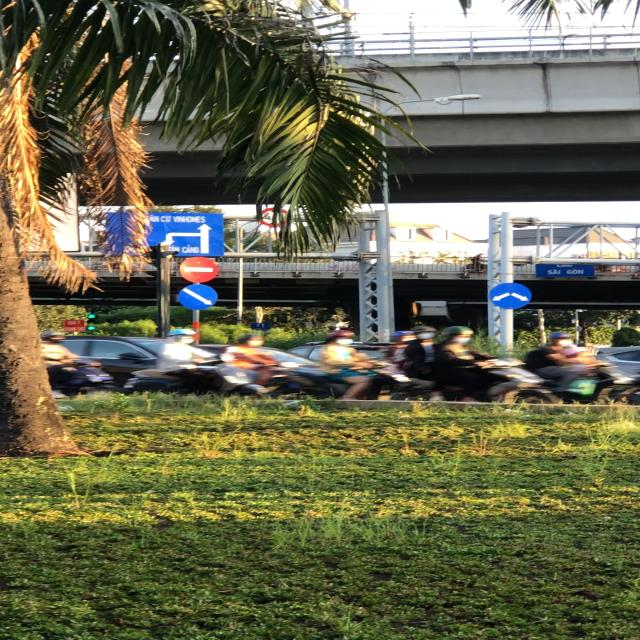Bien bao cam di nguoc chieu: (176, 255, 224, 283)
Bien bao huong phai di vong chuong ngai vat: (487, 281, 537, 311), (174, 283, 222, 311)
